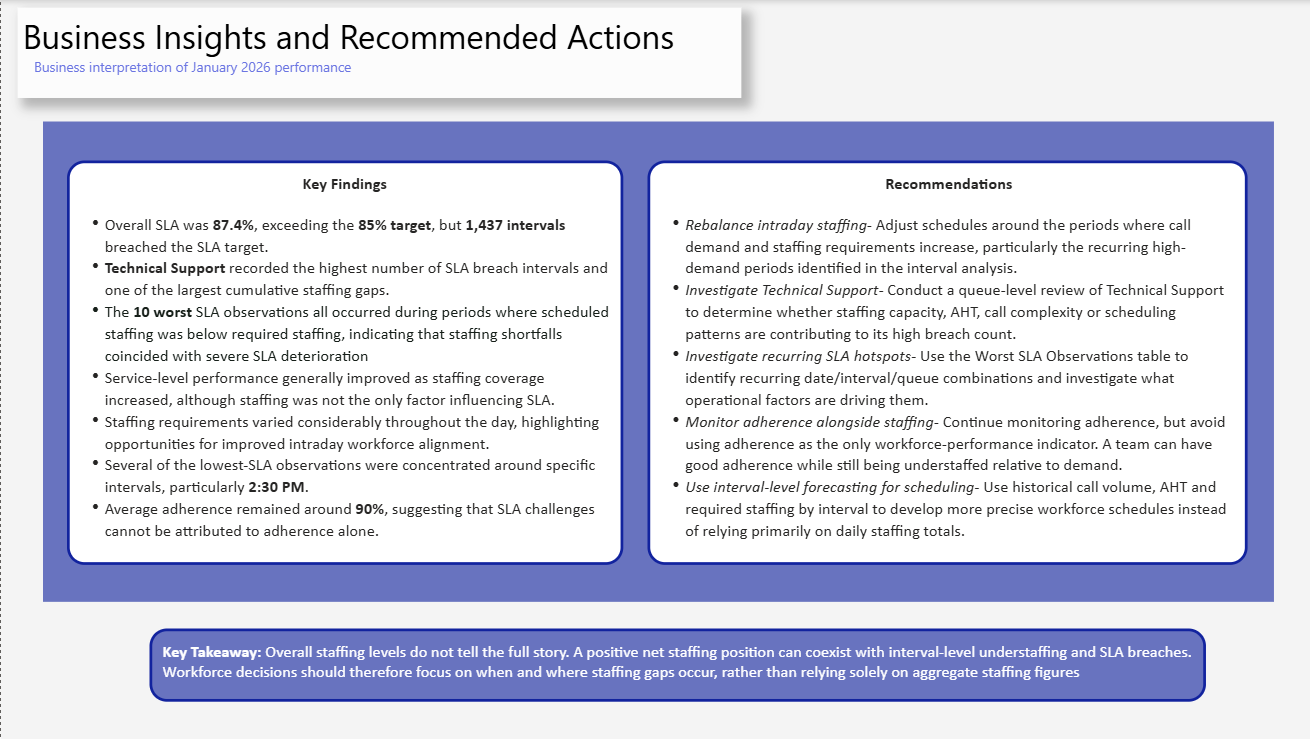

What the dashboard file says about the page in this screenshot:
{"tool":"powerbi","page":{"name":"Business Insights","canvas":[1280,720],"ordinal":4},"visuals":[{"type":"textbox","box":[16.7,7.6,705.6,87.8],"z":0,"group":"g1"},{"type":"textbox","box":[40.9,118.1,1199.3,467.9],"z":0},{"type":"textbox","box":[63.6,156,542.1,393.7],"z":1000},{"type":"textbox","box":[629.9,156,584.5,393.7],"z":2000},{"type":"textbox","box":[145.4,611.7,1029.7,71.2],"z":3000},{"type":"group","id":"g1","title":"Group 3","box":[16.7,7.6,705.6,87.8],"z":4000}]}

Visuals, with their boxes in screenshot pixels (x1, y1, x2, y2), scaled from the page's 1280x720 canvas onto the 1310x739 screenshot:
textbox: (17, 8, 739, 98)
textbox: (42, 121, 1269, 601)
textbox: (65, 160, 620, 564)
textbox: (645, 160, 1243, 564)
textbox: (149, 628, 1203, 701)
"Group 3" group: (17, 8, 739, 98)
